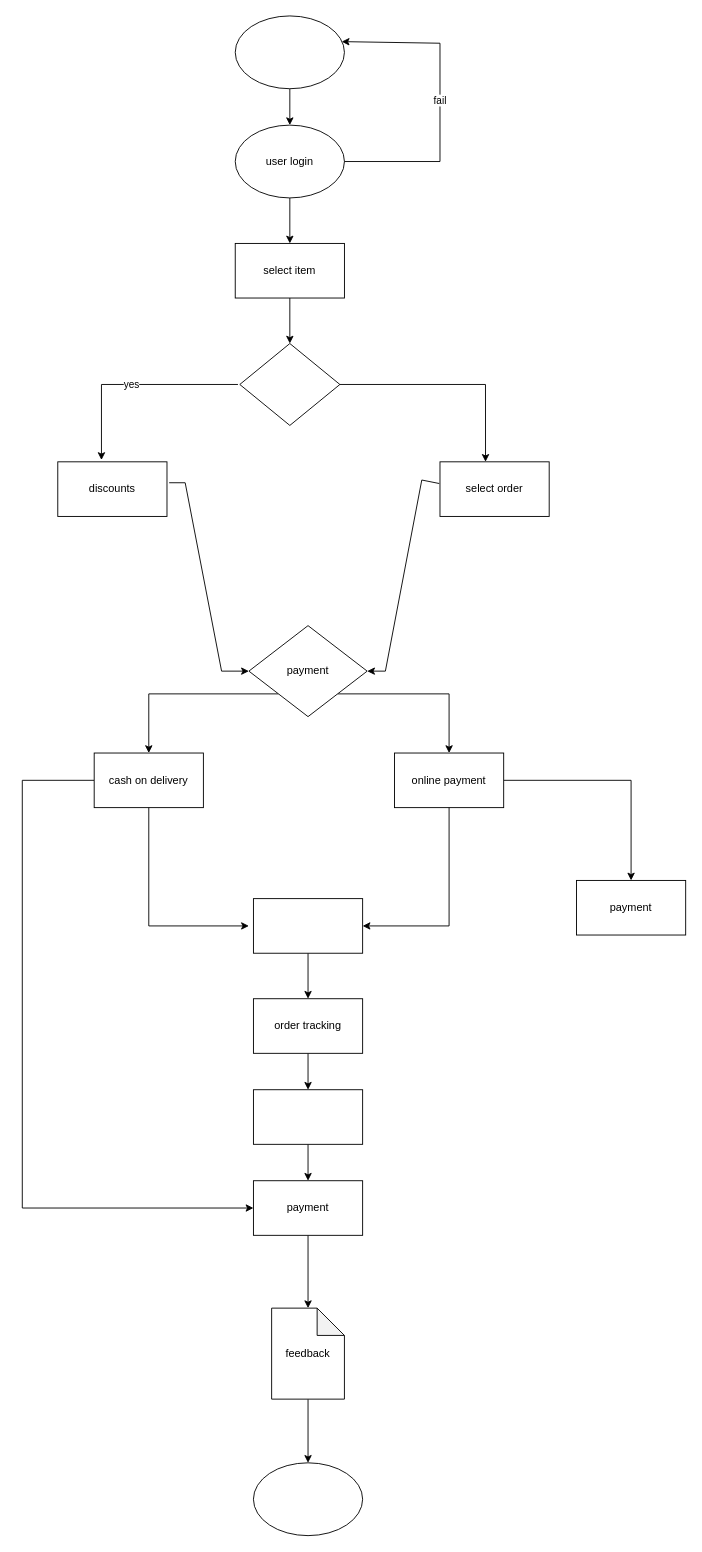
The diagram is 702 pixels wide and 1552 high, and some of its shapes have lost their labels. The shapes that lost their labels are listed below. From the top down, each one's centre as x and y in pixels, then its label:
At point 289,52: "register".
At point 289,384: "place order".
At point 308,925: "order placed".
At point 308,1116: "order delivered".
At point 308,1499: "close the app".
